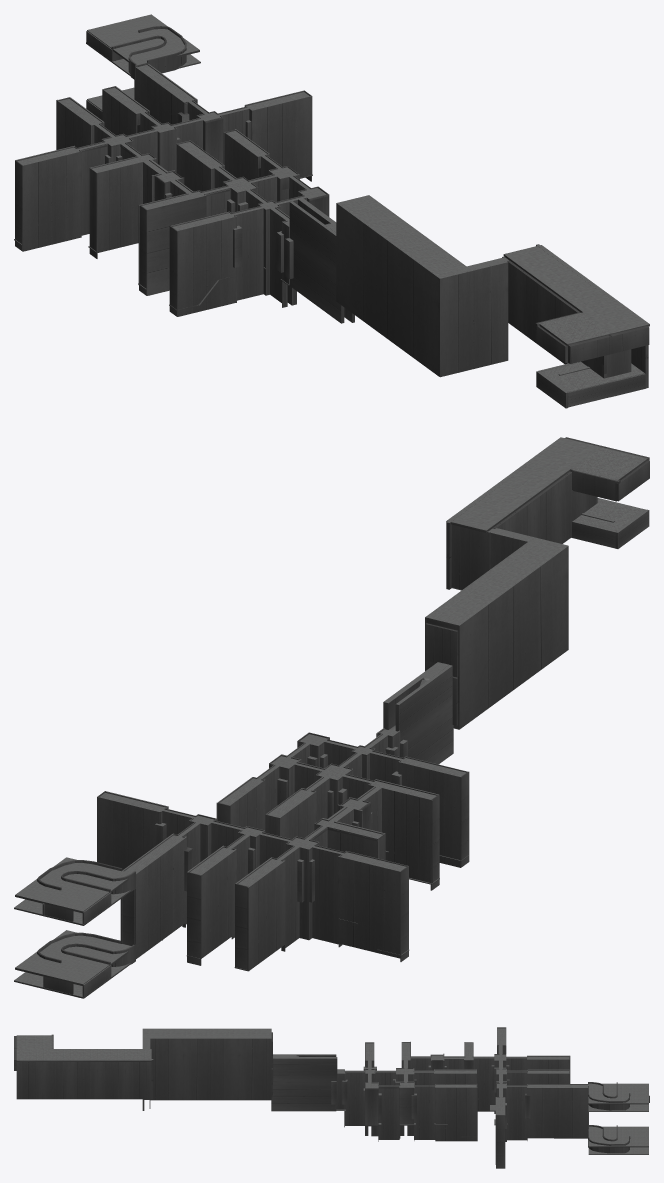
The model's file is Level2Cliffs2.fbx.
The picture shows the model from 3 angles, top to bottom: view 1: azimuth 30°, elevation 25°; view 2: azimuth 150°, elevation 25°; view 3: azimuth 270°, elevation 25°; orthographic projection. The views are drawn at different scales.
Parts seen in each view (by area): view 1: Cube__121__1, Cube__108_, Cube__272_, Cube__213_, Cube__26_, Cube_026, Cube__165__3, Cube__158__4, Cube__128_, Cube__161_, Cube__351_, Cube__145__1 (+23 smaller); view 2: Cube__121__1, Cube__165__2, Cube__26_, Cube__158__8, Cube__154__20, Cube__128_, Cube_026, Cube__166__2, Cube__158__6, Cube__351_, Cube__351_.001, Cube__158__7 (+20 smaller); view 3: Cube__124_, Cube_013, Cube__150__6, Cube__242_, Cube__146__1, Cube__26_, Cube__146_, Cube__128_, Cube__351_.001, Cube__351_, Cube__239_, Cube__229_ (+21 smaller).
Boxes of the visible parts, <box> form: Cube__121__1: <box>336,203,440,376</box>; Cube__108_: <box>439,261,508,377</box>; Cube__272_: <box>23,151,81,251</box>; Cube__213_: <box>177,216,236,316</box>; Cube__26_: <box>503,245,649,333</box>; Cube_026: <box>507,260,631,378</box>; Cube__165__3: <box>251,96,312,177</box>; Cube__158__4: <box>96,161,144,252</box>; Cube__128_: <box>338,195,471,278</box>; Cube__161_: <box>147,195,206,295</box>; Cube__351_: <box>87,14,199,66</box>; Cube__145__1: <box>289,243,344,323</box>; Cube__121__1: <box>458,545,568,729</box>; Cube__165__2: <box>338,856,400,958</box>; Cube__26_: <box>446,437,600,532</box>; Cube__158__8: <box>133,836,187,958</box>; Cube__154__20: <box>381,787,433,884</box>; Cube__128_: <box>426,538,566,630</box>; Cube_026: <box>492,471,597,543</box>; Cube__166__2: <box>97,796,159,870</box>; Cube__158__6: <box>247,860,285,971</box>; Cube__351_: <box>15,857,131,913</box>; Cube__351_.001: <box>15,930,131,985</box>; Cube__158__7: <box>200,849,236,958</box>; Cube__124_: <box>150,1038,271,1100</box>; Cube_013: <box>16,1059,153,1099</box>; Cube__150__6: <box>527,1087,588,1138</box>; Cube__242_: <box>435,1087,477,1141</box>; Cube__146__1: <box>271,1082,336,1111</box>; Cube__26_: <box>16,1049,151,1061</box>; Cube__146_: <box>273,1057,337,1081</box>; Cube__128_: <box>143,1029,271,1038</box>; Cube__351_.001: <box>588,1126,648,1147</box>; Cube__351_: <box>588,1083,648,1104</box>; Cube__239_: <box>414,1086,435,1139</box>; Cube__229_: <box>378,1086,399,1139</box>.
Bounding box in the file's own units: 19064 × 9496 × 58145.
